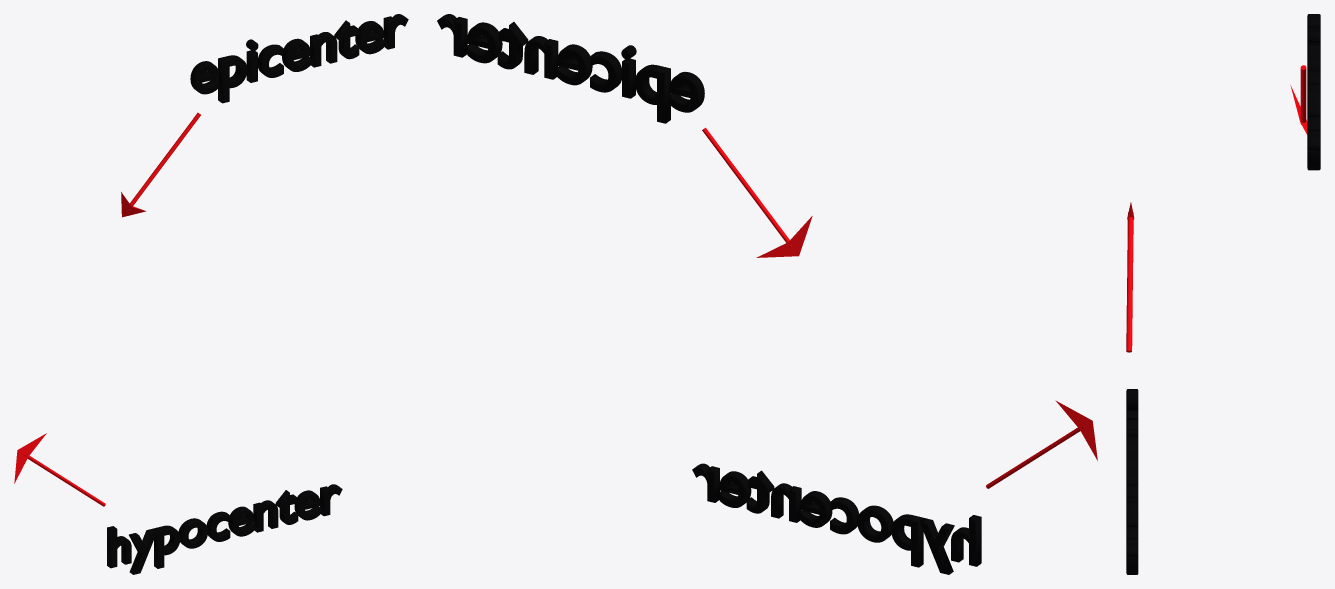
File: arrow2.gltf
3 views of the same model, side by side, from view 1: azimuth 30°, elevation 25°; view 2: azimuth 150°, elevation 25°; view 3: azimuth 270°, elevation 25° (orthographic). The views are drawn at different scales.
Visible parts, largest first — view 1: Text, Text.001, Cube.002, Cube.001; view 2: Text, Text.001, Cube.001, Cube.002; view 3: Text.001, Text, Cube.002, Cube.001.
Boxes of the visible parts, x1,y1,x2,y2 form: Text: (190,14,408,103); Text.001: (107,484,342,574); Cube.002: (14,433,105,506); Cube.001: (121,112,200,217); Text: (437,14,704,123); Text.001: (692,463,981,574); Cube.001: (702,127,812,257); Cube.002: (986,400,1097,488); Text.001: (1126,389,1138,574); Text: (1307,14,1320,170); Cube.002: (1126,202,1134,352); Cube.001: (1290,65,1307,134).
Bounding box in the file's own units: 12.23 × 10.91 × 3.46.
